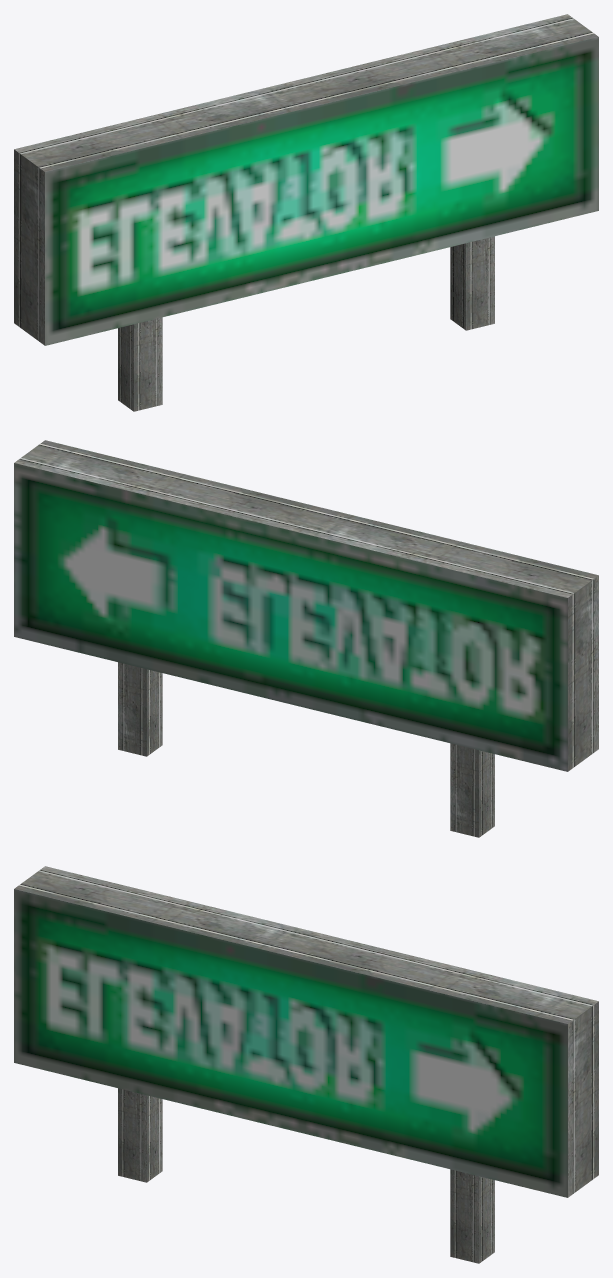
Rendered from elev_hang_arrow.fbx.
The picture shows the model from 3 angles, top to bottom: view 1: azimuth 30°, elevation 25°; view 2: azimuth 150°, elevation 25°; view 3: azimuth 330°, elevation 25°; orthographic projection.
Visible parts, largest first — view 1: mesh_0; view 2: mesh_0; view 3: mesh_0.
Boxes of the visible parts, bbox=[...] form: mesh_0: bbox=[14, 14, 598, 411]; mesh_0: bbox=[14, 440, 598, 837]; mesh_0: bbox=[14, 866, 598, 1263].
Bounding box in the file's own units: 100 × 46.38 × 9.74.
Materials: 1 (1 with a texture image).
